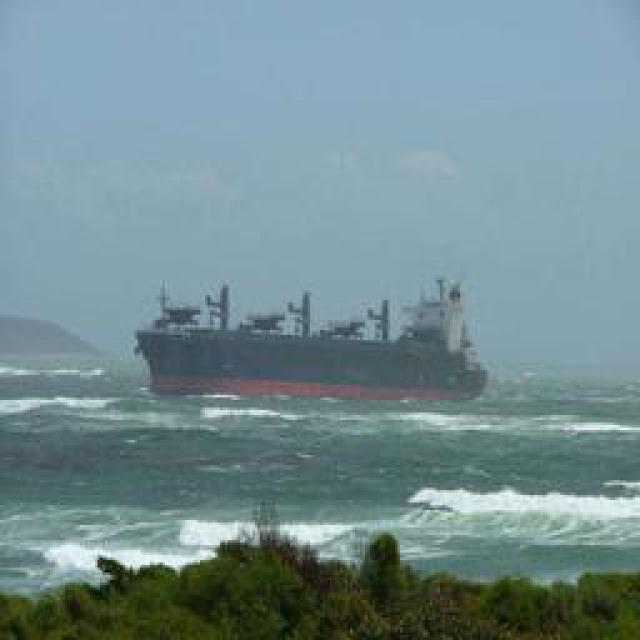Ship: (126, 269, 489, 404)
